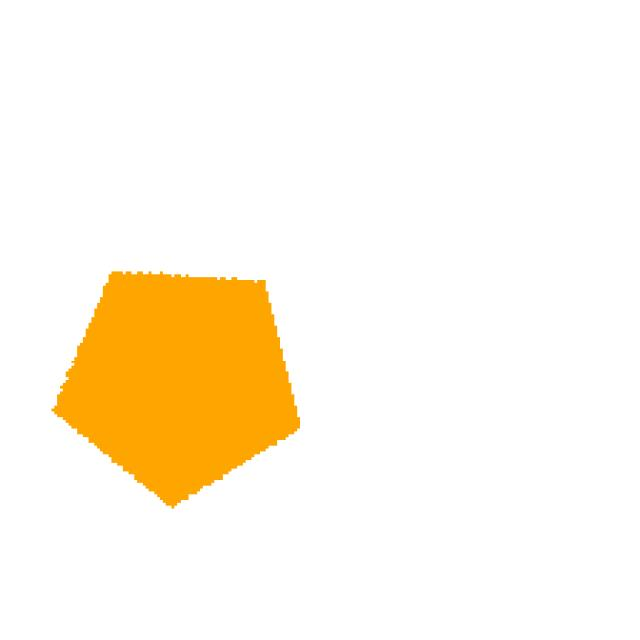Pentagon: (34, 256, 429, 537)
